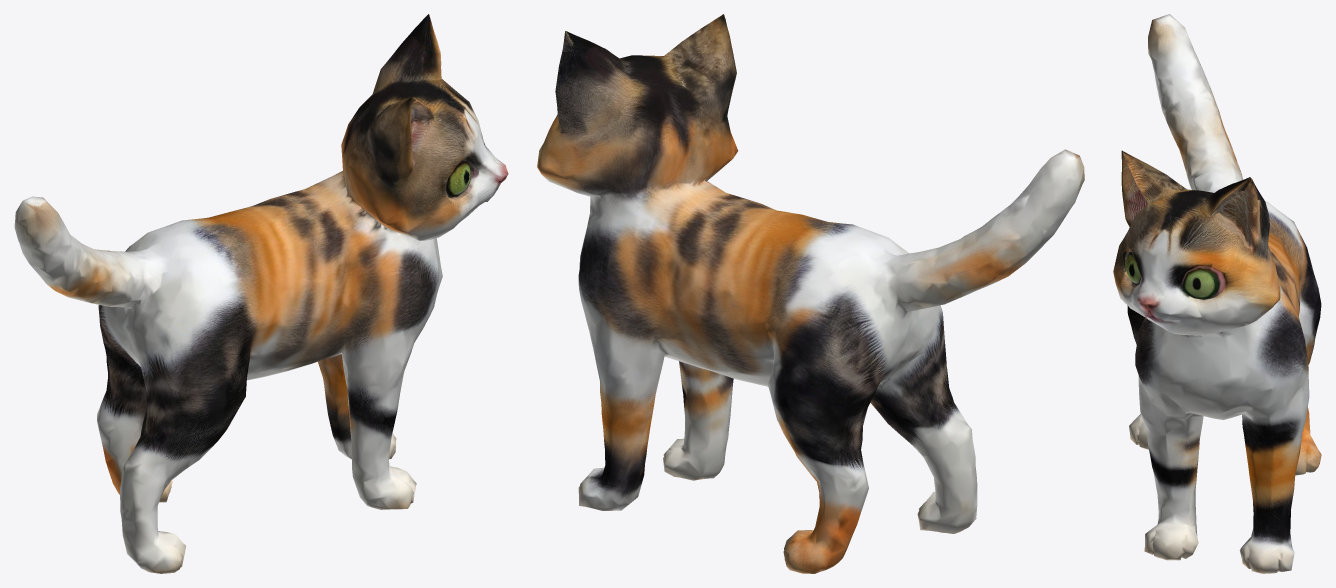
The model's file is PATCHPAW.glb.
3 views of the same model, side by side, from view 1: azimuth 30°, elevation 25°; view 2: azimuth 150°, elevation 25°; view 3: azimuth 270°, elevation 25° (orthographic). The views are drawn at different scales.
Visible parts, largest first — view 1: fit; view 2: fit; view 3: fit.
Part boxes in pixels (x1,y1,x2,y2): fit: [14, 14, 508, 573]; fit: [537, 14, 1084, 573]; fit: [1113, 14, 1321, 573].
Bounding box in the file's own units: 1.15 × 1 × 0.4573.
Materials: 1 (1 with a texture image).
